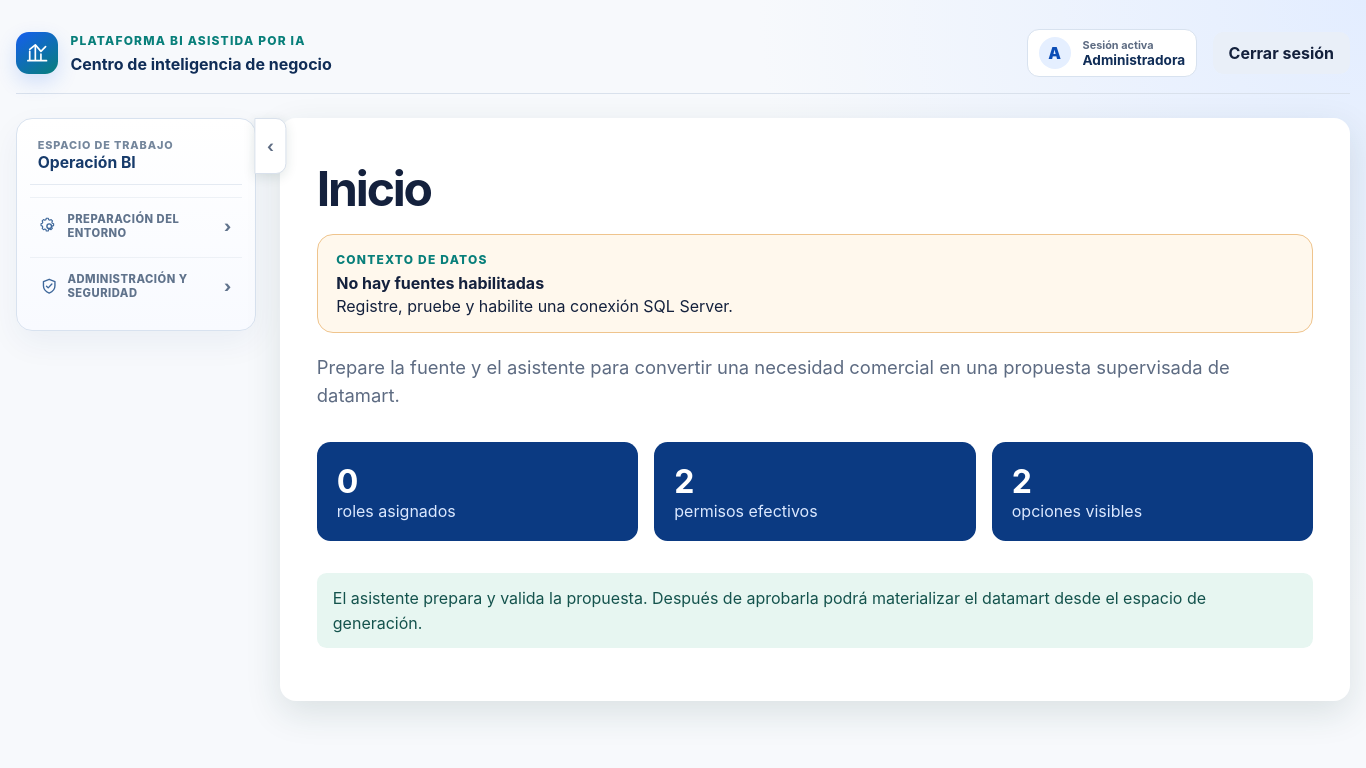
Test: App › no interpreta la respuesta de Roles como instantáneas al navegar al explorador
Click the button "Administración y seguridad ›" at (136, 286), box [30, 261, 242, 311]
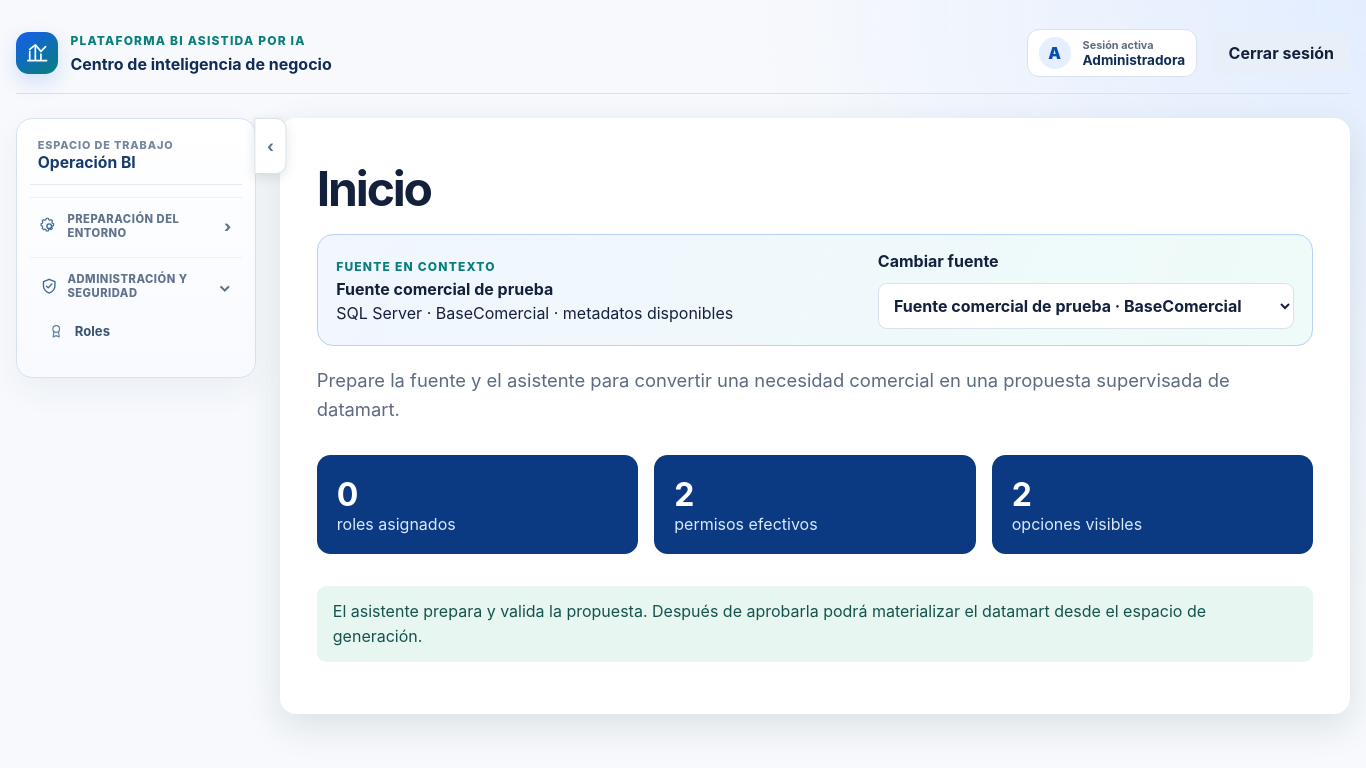
Click the button "Roles" at (136, 331), box [30, 312, 242, 350]
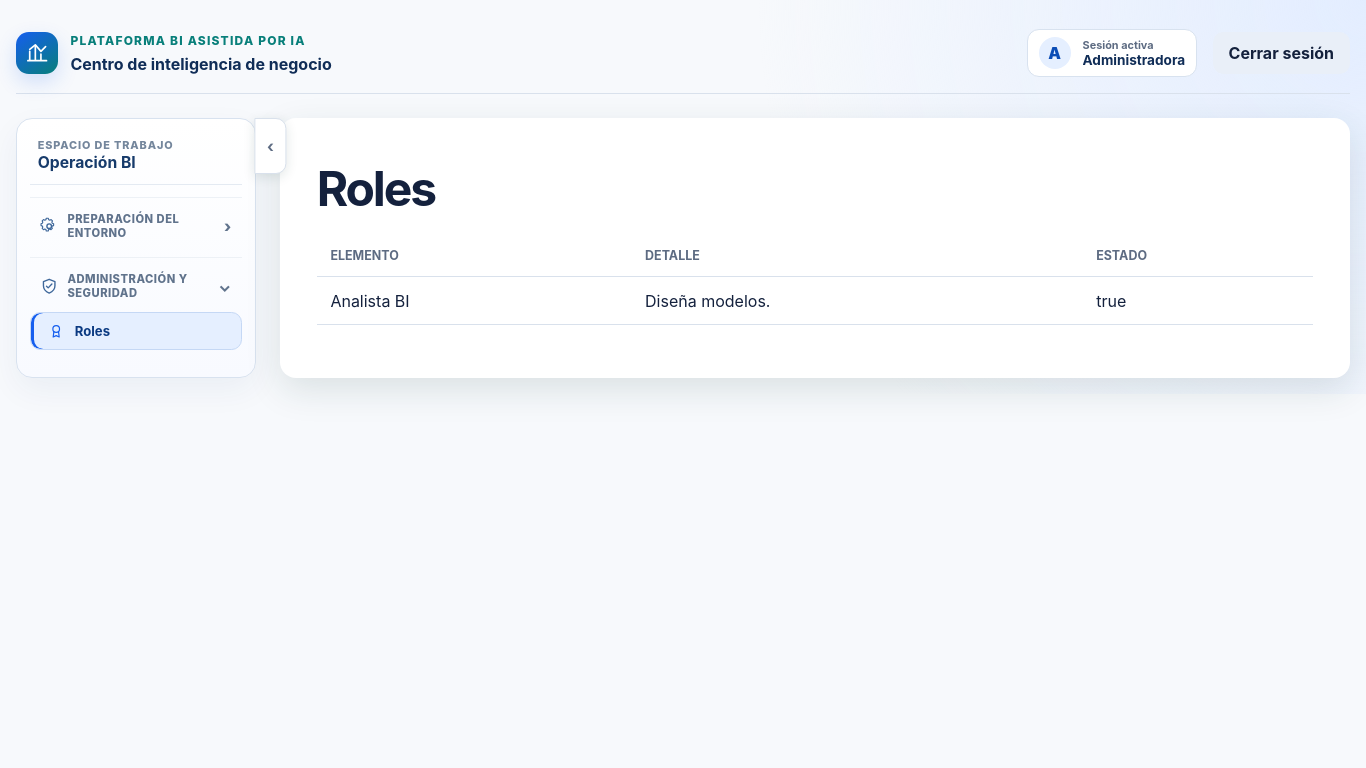
Check: the text "Analista BI" is shown, box [317, 277, 632, 325]
Click the button "Preparación del entorno ›" at (136, 226), box [30, 201, 242, 251]
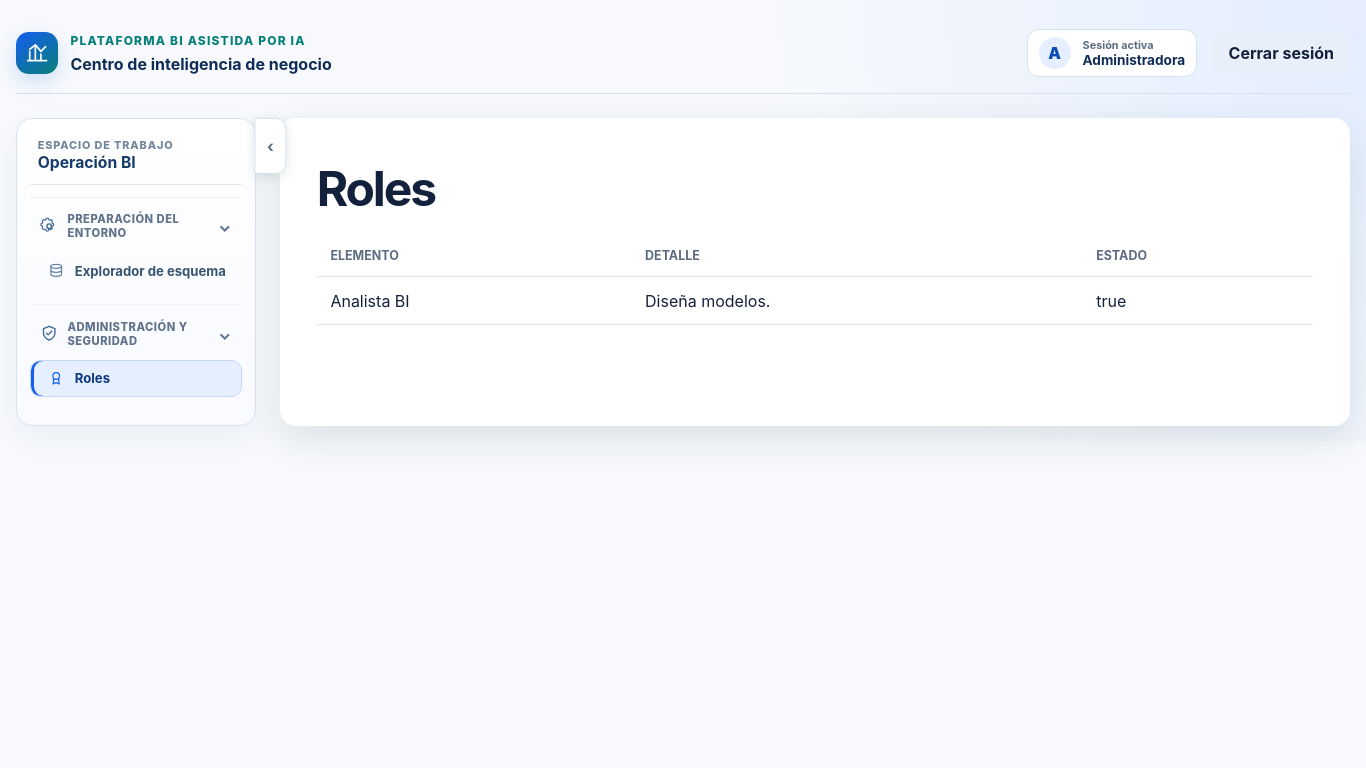
Click the button "Explorador de esquema" at (136, 271), box [30, 252, 242, 290]
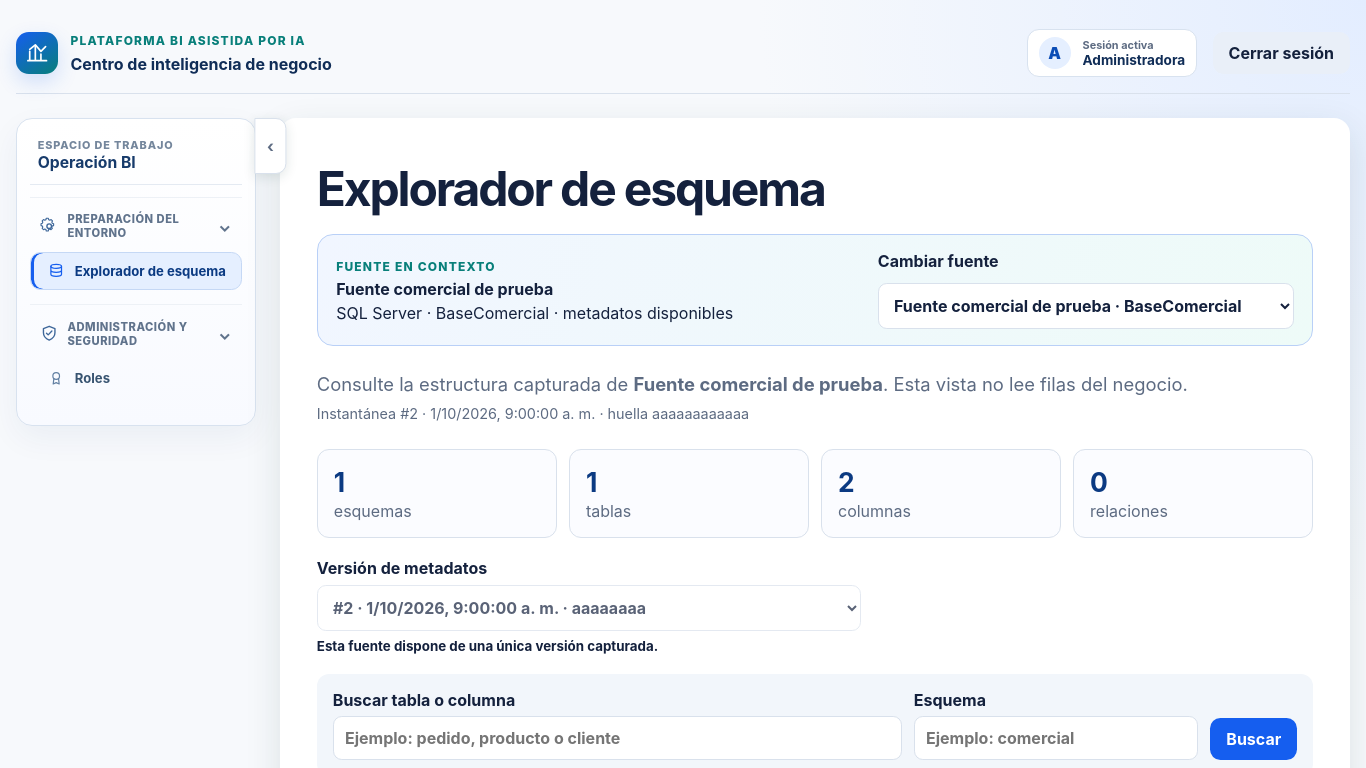
Check: the text "Instantánea #2" is shown, box [317, 405, 749, 422]
